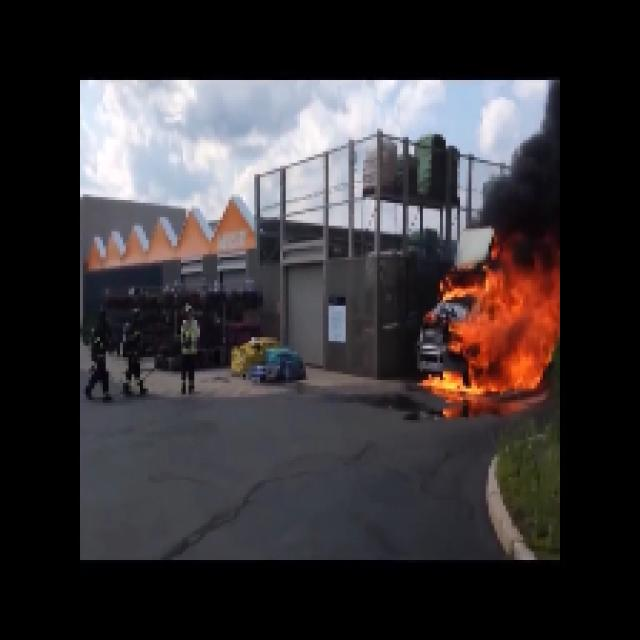fire: (449, 274, 552, 388)
smoke: (492, 146, 556, 250)
